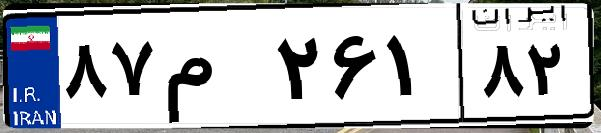1: (385, 28, 445, 110)
2: (270, 28, 330, 110), (525, 38, 570, 115)
6: (330, 28, 385, 110)
7: (110, 28, 158, 98)
8: (57, 26, 110, 100), (475, 38, 525, 113)
م: (158, 20, 270, 120)
